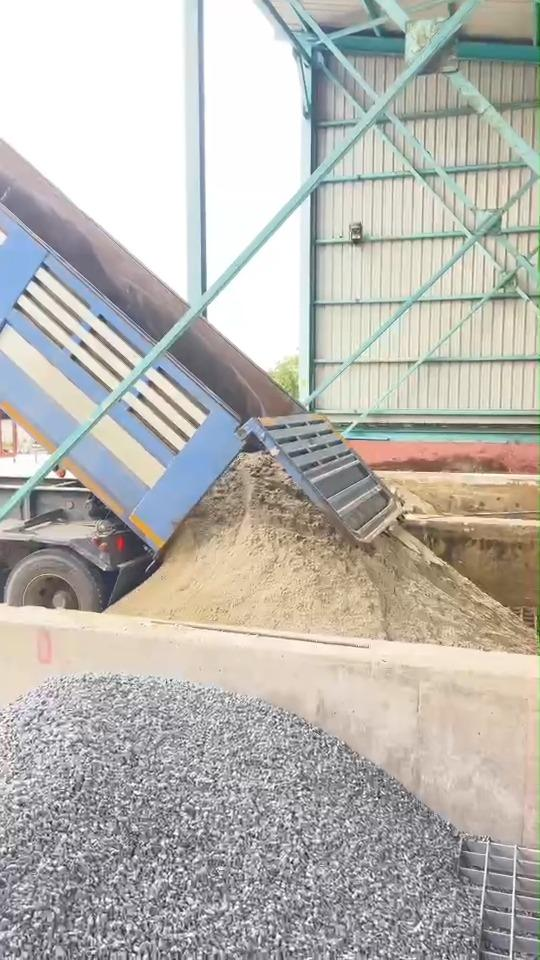gravel: (1, 675, 477, 959)
sand: (111, 454, 536, 652), (387, 480, 435, 514)
